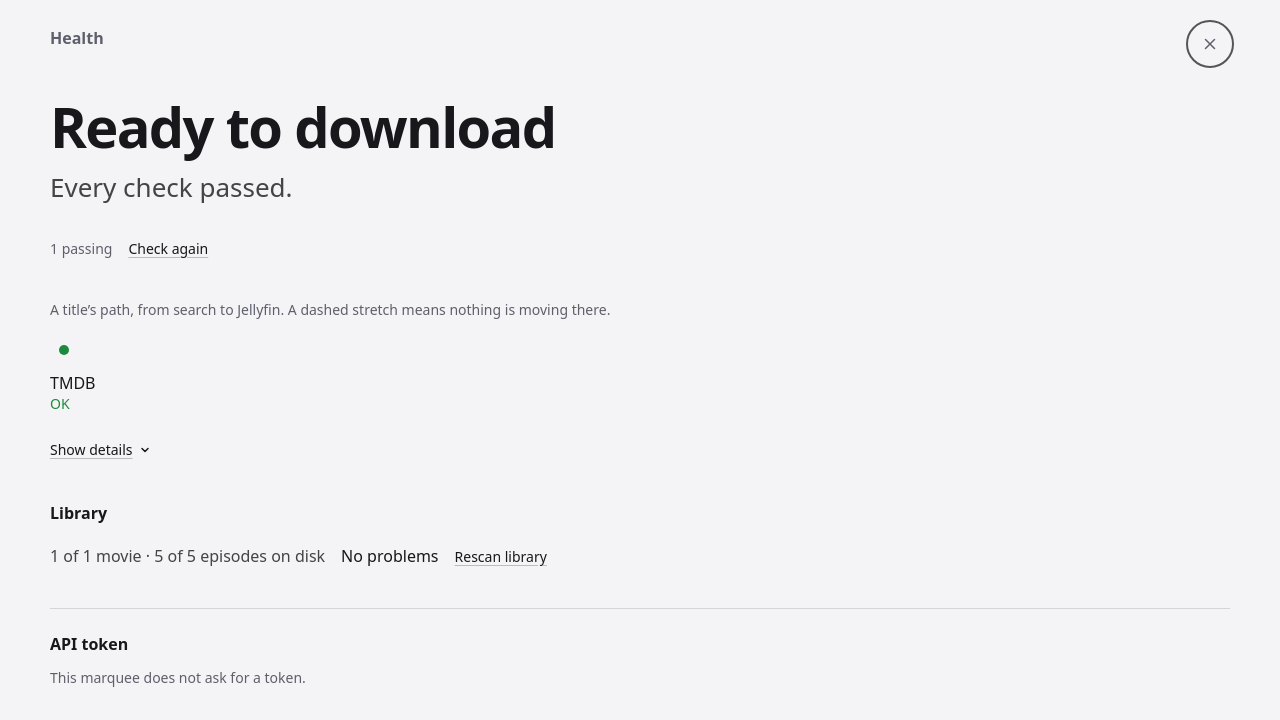
Scenario: a failed library rescan says why in an error toast and the button comes back
The width and height of the screenshot is (1280, 720).
Click the button "Rescan library": (501, 556) [454, 536, 547, 576]
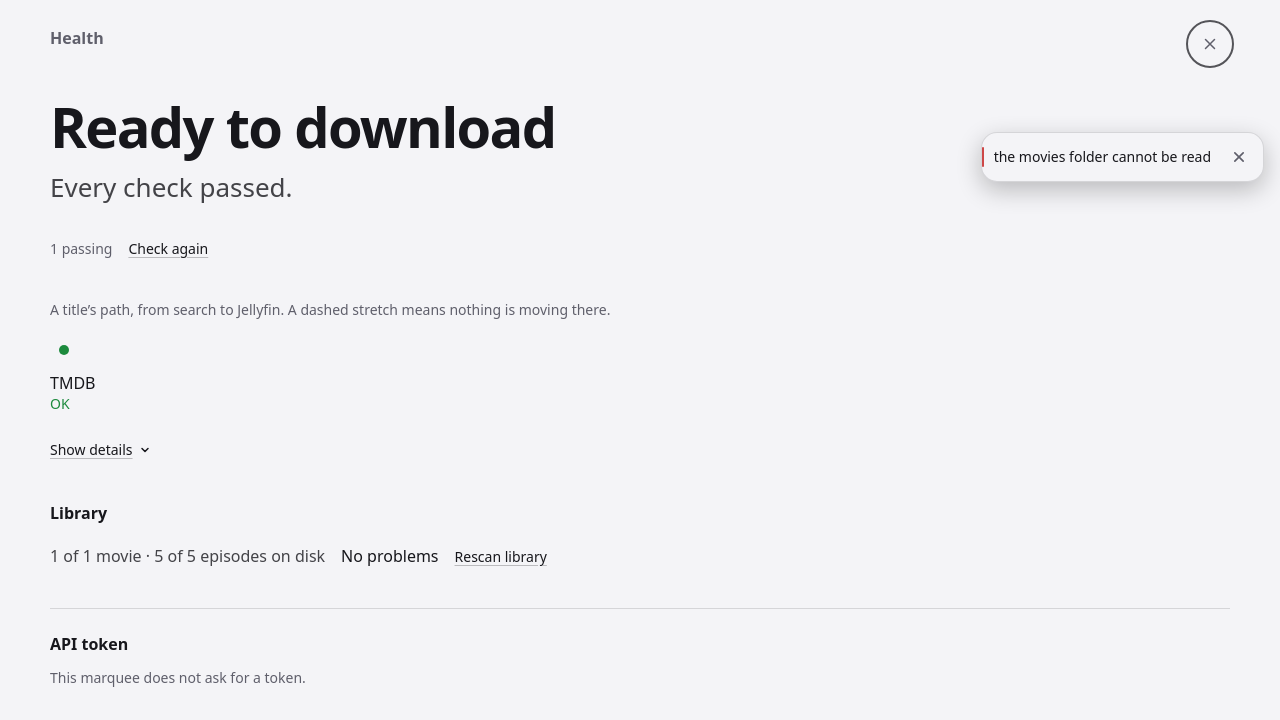
Expected: the message reads "the movies folder cannot be read", [994, 147, 1211, 166]
